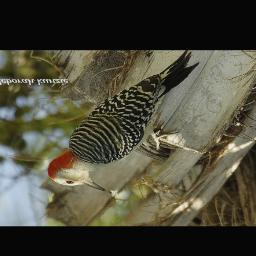Woodpecker: (42, 51, 202, 192)
